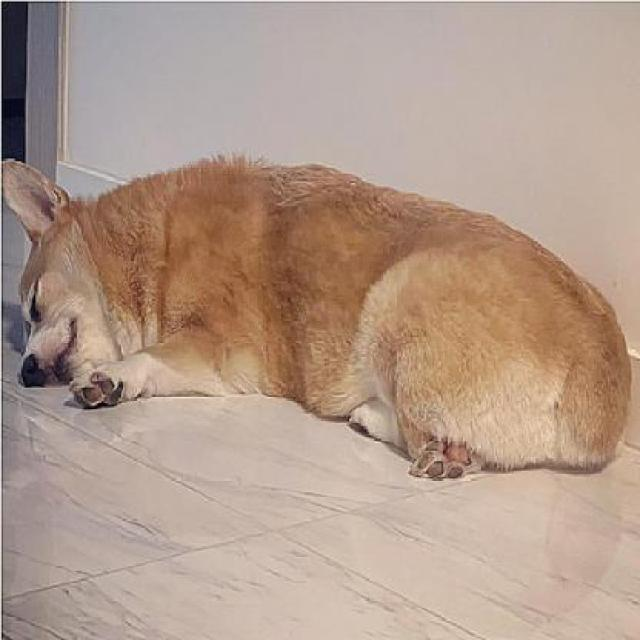Dog: (1, 149, 632, 486)
